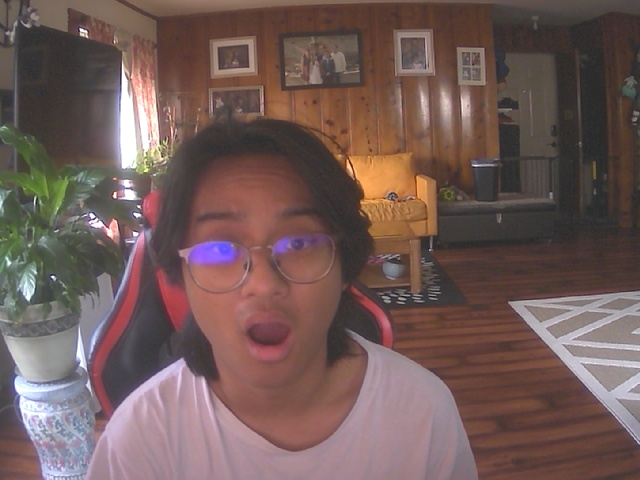fear: (173, 131, 369, 391)
